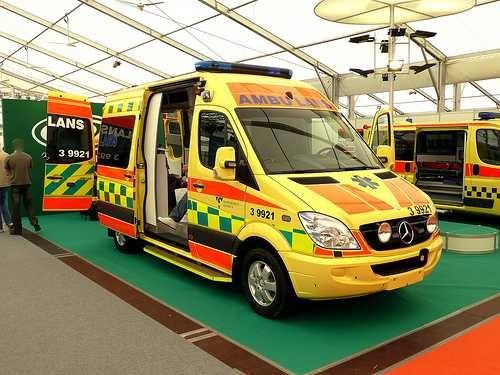car: (94, 60, 443, 319), (360, 107, 499, 218)
